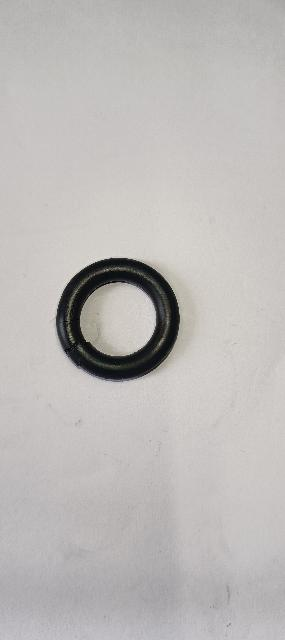crack: (60, 338, 90, 358)
scratch: (53, 318, 83, 325)
